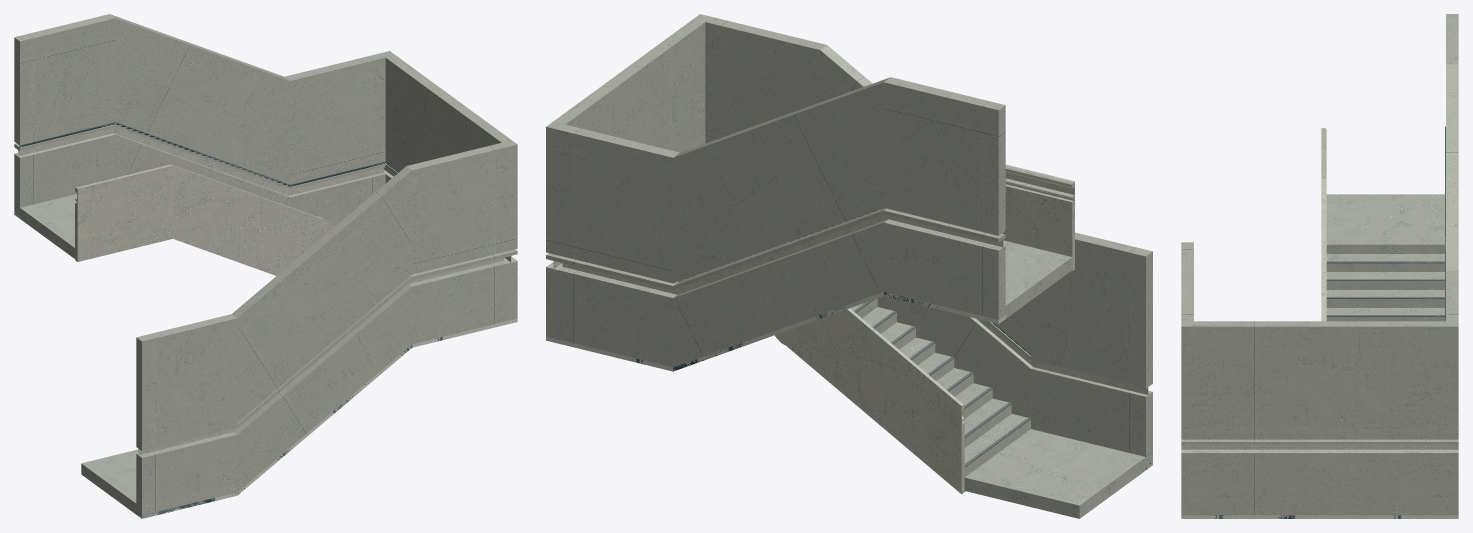
Rendered from cryo_handrail_full_v1.glb.
3 renders of one model, left to right at view 1: azimuth 30°, elevation 25°; view 2: azimuth 150°, elevation 25°; view 3: azimuth 270°, elevation 25°, orthographic. The views are drawn at different scales.
Visible parts, largest first — view 1: Wall_Lower_Run_Upper, Wall_Upper_Run_Upper, C_Guard_UpperAndFloor, Wall_Lower_Entry_Upper, Wall_Lower_Run_Base, Wall_Upper_Floor_Upper, Wall_Turn_LowerReturn_Upper, Wall_Turn_UpperReturn_Upper, Wall_Turn_Upper, Wall_Lower_Entry_Base, Wall_Turn_LowerReturn_Base, Wall_Upper_Floor_Base (+10 smaller); view 2: Wall_Upper_Run_Upper, Wall_Upper_Floor_Upper, Wall_Turn_UpperReturn_Upper, Wall_Upper_Run_Base, Wall_Lower_Entry_Upper, C_Guard_LowerAndReturn, Wall_Turn_Upper, Wall_Turn_LowerReturn_Upper, EntryLanding, Wall_Upper_Floor_Base, Wall_Turn_UpperReturn_Base, Wall_Lower_Entry_Base (+12 smaller); view 3: Wall_Turn_Upper, Wall_Turn_Lower, Upper_ClosedFlight, FloorLanding, Wall_Upper_Run_Upper, Wall_Turn_Middle, Wall_Turn_GripLowerLip, Wall_Turn_GripBack, C_Guard_UpperAndFloor, Wall_Turn_FootBand, Wall_Upper_Floor_Upper, Wall_Turn_LowerReturn_Upper (+3 smaller).
Part boxes in pixels (x1,y1,x2,y2): Wall_Lower_Run_Upper: (232,166,412,422); Wall_Upper_Run_Upper: (110,14,290,184); C_Guard_UpperAndFloor: (75,164,334,275); Wall_Lower_Entry_Upper: (136,314,237,451); Wall_Lower_Run_Base: (234,284,412,491); Wall_Upper_Floor_Upper: (14,14,115,145); Wall_Turn_LowerReturn_Upper: (407,143,507,274); Wall_Turn_UpperReturn_Upper: (285,53,385,184); Wall_Turn_Upper: (380,51,517,250); Wall_Lower_Entry_Base: (136,432,237,515); Wall_Turn_LowerReturn_Base: (409,261,507,343); Wall_Upper_Floor_Base: (14,135,115,214); Wall_Upper_Run_Upper: (673,77,890,283); Wall_Upper_Floor_Upper: (884,77,1005,235); Wall_Turn_UpperReturn_Upper: (558,124,679,283); Wall_Upper_Run_Base: (673,219,887,367); Wall_Lower_Entry_Upper: (1031,232,1152,388); C_Guard_LowerAndReturn: (775,308,964,494); Wall_Turn_Upper: (546,14,711,255); Wall_Turn_LowerReturn_Upper: (705,17,826,143); EntryLanding: (964,429,1145,518); Wall_Upper_Floor_Base: (884,219,1005,319); Wall_Turn_UpperReturn_Base: (558,267,676,367); Wall_Lower_Entry_Base: (1031,367,1152,465); Wall_Turn_Upper: (1181,321,1458,439); Wall_Turn_Lower: (1181,454,1458,515); Upper_ClosedFlight: (1326,254,1444,321); FloorLanding: (1326,194,1444,253); Wall_Upper_Run_Upper: (1446,64,1458,270); Wall_Turn_Middle: (1181,439,1458,444); Wall_Turn_GripLowerLip: (1181,449,1458,453); Wall_Turn_GripBack: (1181,445,1458,449); C_Guard_UpperAndFloor: (1321,128,1326,321); Wall_Turn_FootBand: (1181,515,1458,518); Wall_Upper_Floor_Upper: (1446,14,1458,64); Wall_Turn_LowerReturn_Upper: (1181,271,1193,321).
Bounding box in the file's own units: 7.09 × 7.02 × 4.18.
8 materials, 8 textured.
